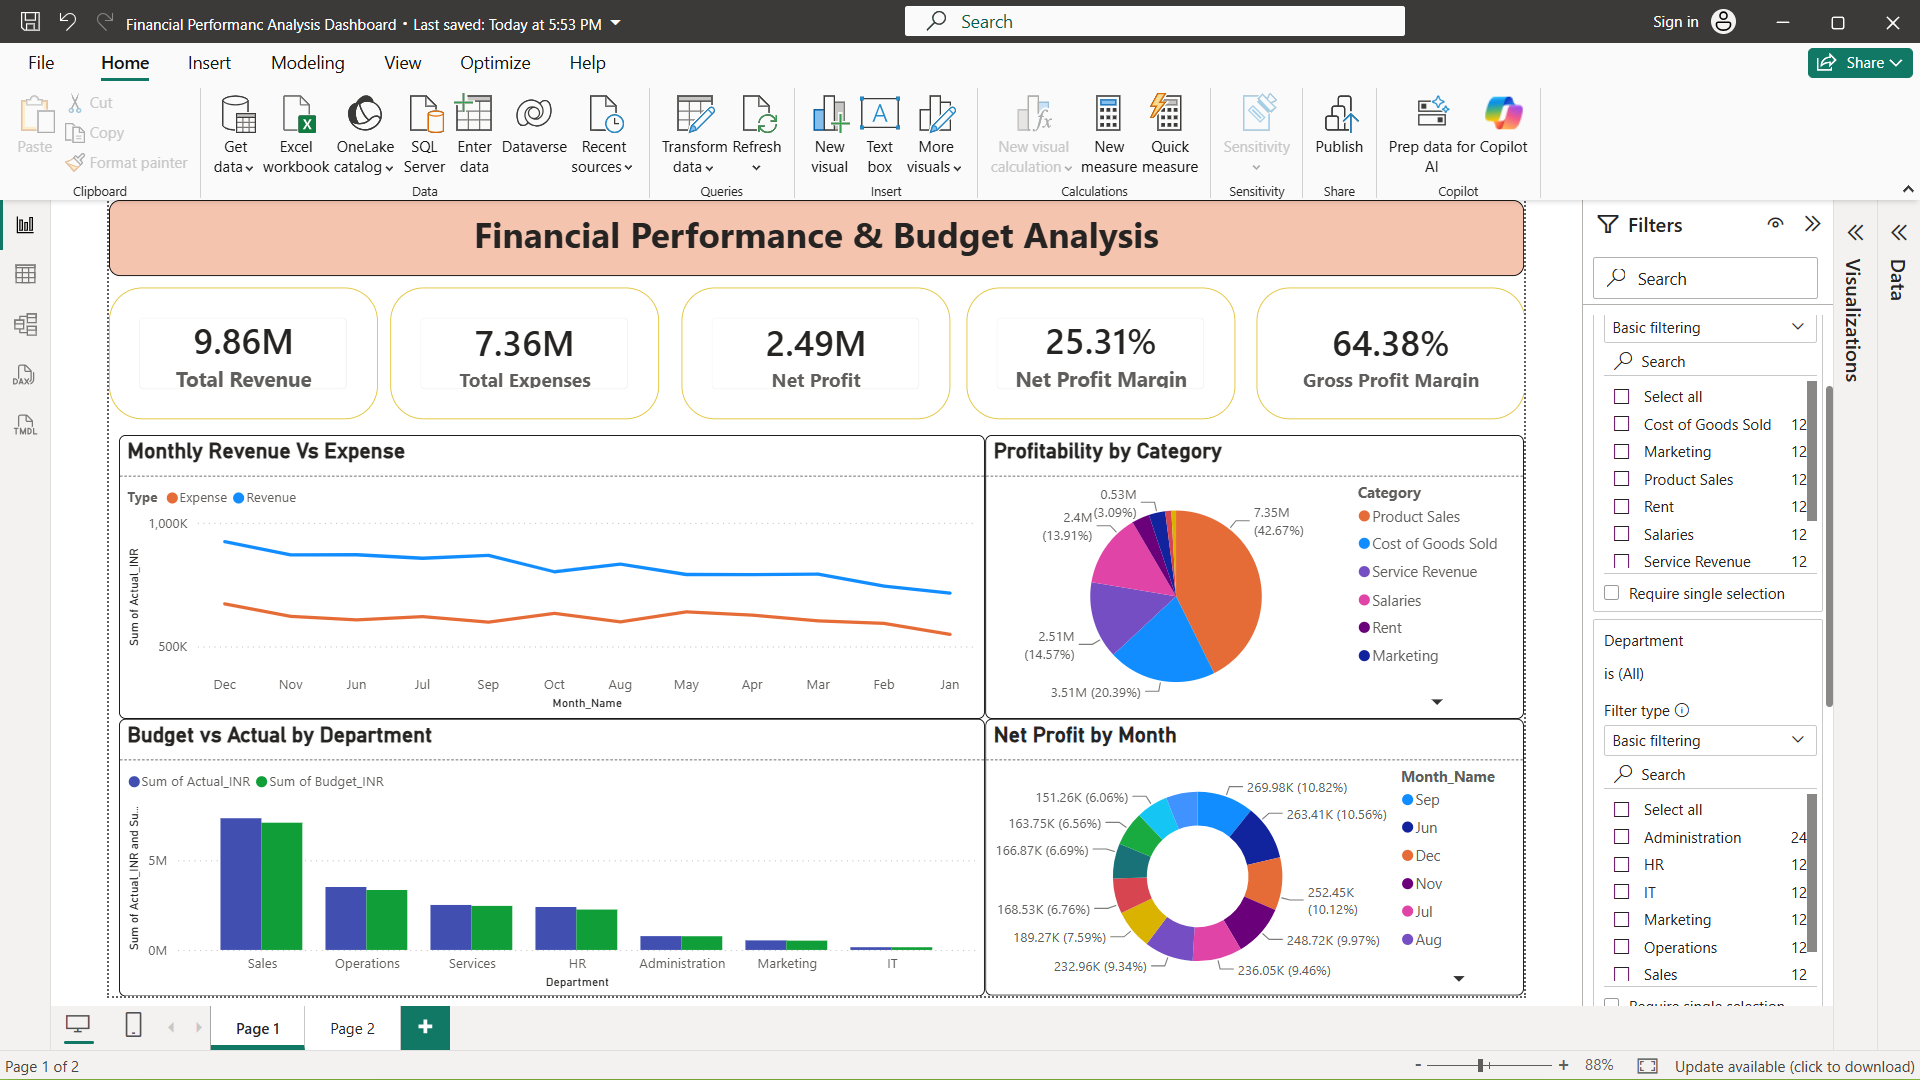

Layout of this report page (visuals, bound fields, positions):
{"tool":"powerbi","page":{"name":"Page 1","canvas":[1280,720],"ordinal":0},"visuals":[{"type":"cardVisual","fields":{"Data":["Financial_Data.Total Revenue"]},"box":[0,79.6,242.9,119.4],"z":0},{"type":"cardVisual","fields":{"Data":["Financial_Data.Total Expenses"]},"box":[253.9,79.6,242.9,119.4],"z":1},{"type":"cardVisual","fields":{"Data":["Financial_Data.Net Profit"]},"box":[517.3,79.6,242.9,119.4],"z":2},{"type":"cardVisual","fields":{"Data":["Financial_Data.Gross Profit Margin"]},"box":[1037.4,79.6,242.9,119.4],"z":3},{"type":"cardVisual","fields":{"Data":["Financial_Data.Net Profit Margin"]},"box":[775.3,79.6,242.9,119.4],"z":5},{"type":"lineChart","title":"Monthly Revenue Vs Expense","fields":{"Y":["Sum(Financial_Data.Actual_INR)"],"Series":["Financial_Data.Type"],"Category":["Financial_Data.Month_Name"]},"box":[9.6,212.7,783.5,256.6],"z":6},{"type":"clusteredColumnChart","title":"Budget vs Actual by Department","fields":{"Category":["Financial_Data.Department"],"Y":["Sum(Financial_Data.Actual_INR)","Sum(Financial_Data.Budget_INR)"]},"box":[9.6,469.3,783.5,251.1],"z":7},{"type":"pieChart","title":"Profitability by Category","fields":{"Category":["Financial_Data.Category"],"Y":["Sum(Financial_Data.Actual_INR)"]},"box":[793.1,212.7,487.1,256.6],"z":9},{"type":"textbox","box":[0,0,1280.3,68.6],"z":10},{"type":"donutChart","title":"Net Profit by Month","fields":{"Category":["Financial_Data.Month_Name"],"Y":["Financial_Data.Net Profit"]},"box":[793,469.8,487.2,250],"z":11}]}

Visuals, with their boxes on the page's 1280x720 design canvas (x1, y1, x2, y2). These are canvas units, not pixel positions in the 1920x1080 screenshot, which may show the page scaled, cropped or inside an application window:
cardVisual - Financial_Data.Total Revenue: <region>0, 80, 243, 199</region>
cardVisual - Financial_Data.Total Expenses: <region>254, 80, 497, 199</region>
cardVisual - Financial_Data.Net Profit: <region>517, 80, 760, 199</region>
cardVisual - Financial_Data.Gross Profit Margin: <region>1037, 80, 1280, 199</region>
cardVisual - Financial_Data.Net Profit Margin: <region>775, 80, 1018, 199</region>
"Monthly Revenue Vs Expense" lineChart: <region>10, 213, 793, 469</region>
"Budget vs Actual by Department" clusteredColumnChart: <region>10, 469, 793, 720</region>
"Profitability by Category" pieChart: <region>793, 213, 1280, 469</region>
textbox: <region>0, 0, 1280, 69</region>
"Net Profit by Month" donutChart: <region>793, 470, 1280, 720</region>
